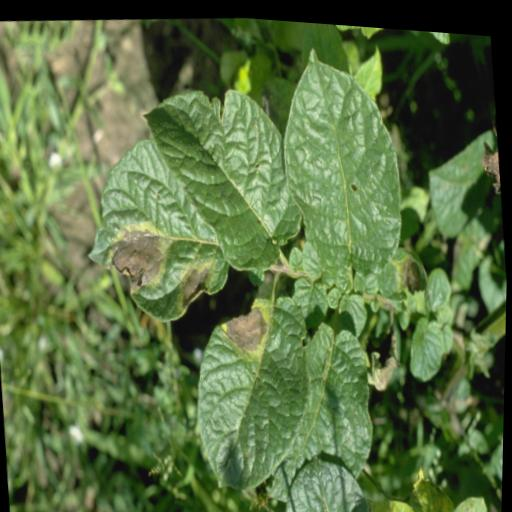Early Blight: (76, 123, 235, 328), (186, 287, 322, 499)
Healthy: (270, 26, 414, 288), (136, 69, 307, 280)
